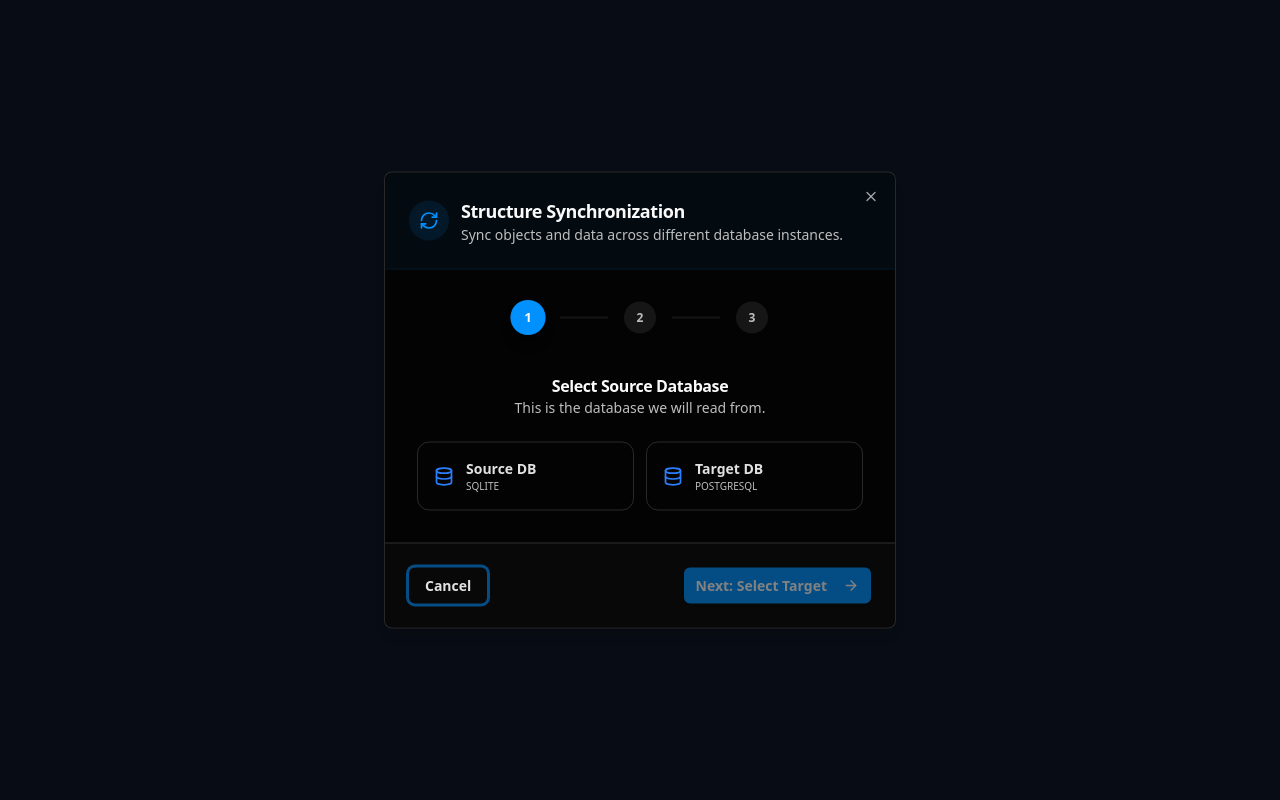
Test: SyncWizard flow: Select Source -> Select Target -> Compare
Note: Select Source
Click the text "Source DB" at point(501, 468), box [466,458,536,478]
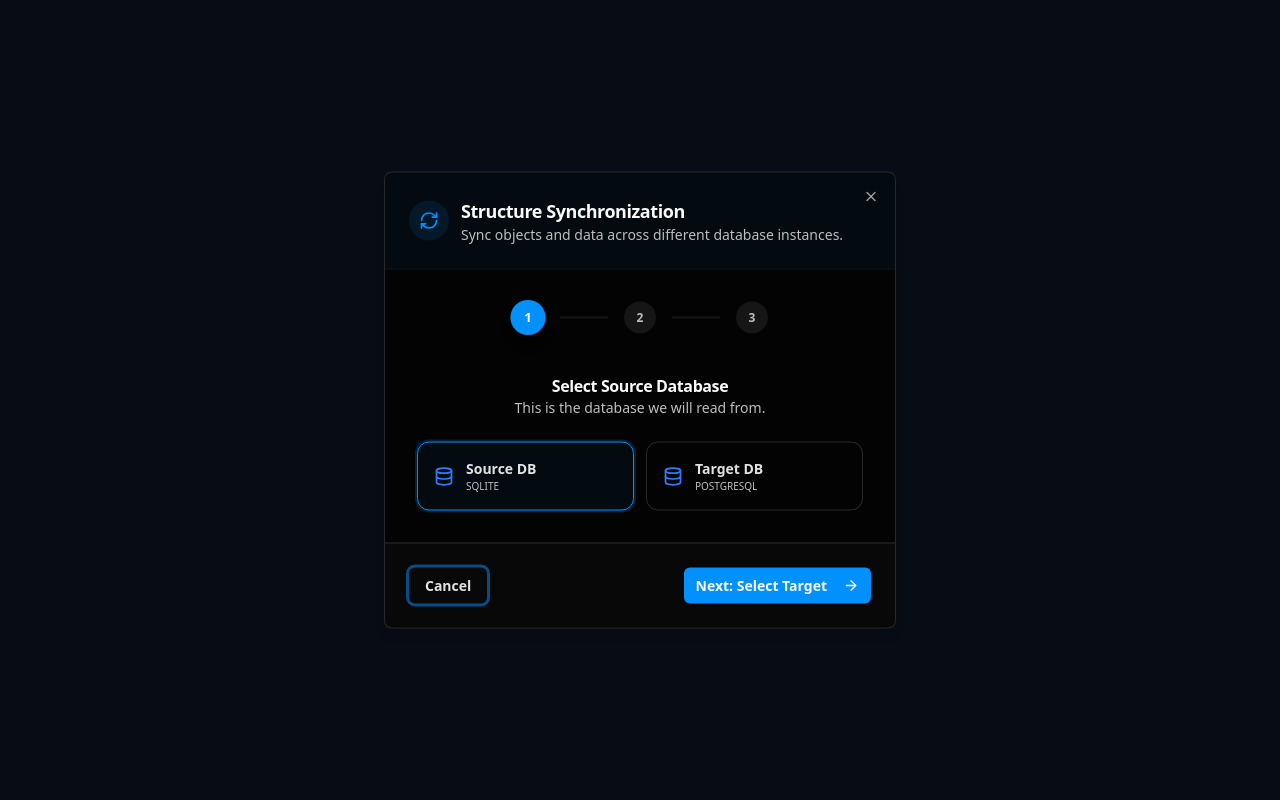
Click the button "Next: Select Target" at point(777, 586), box [684,568,871,604]
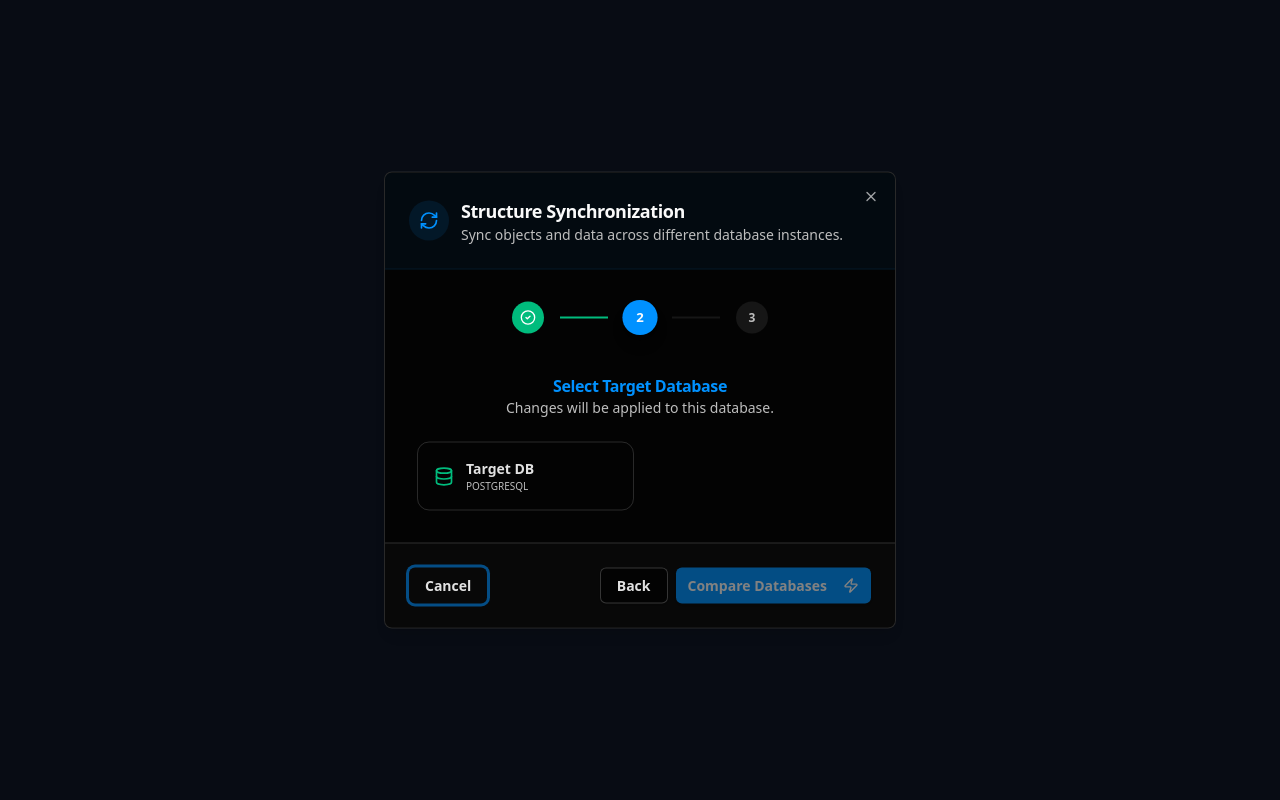
Note: Select Target
Click the text "Target DB" at point(500, 468), box [466,458,534,478]
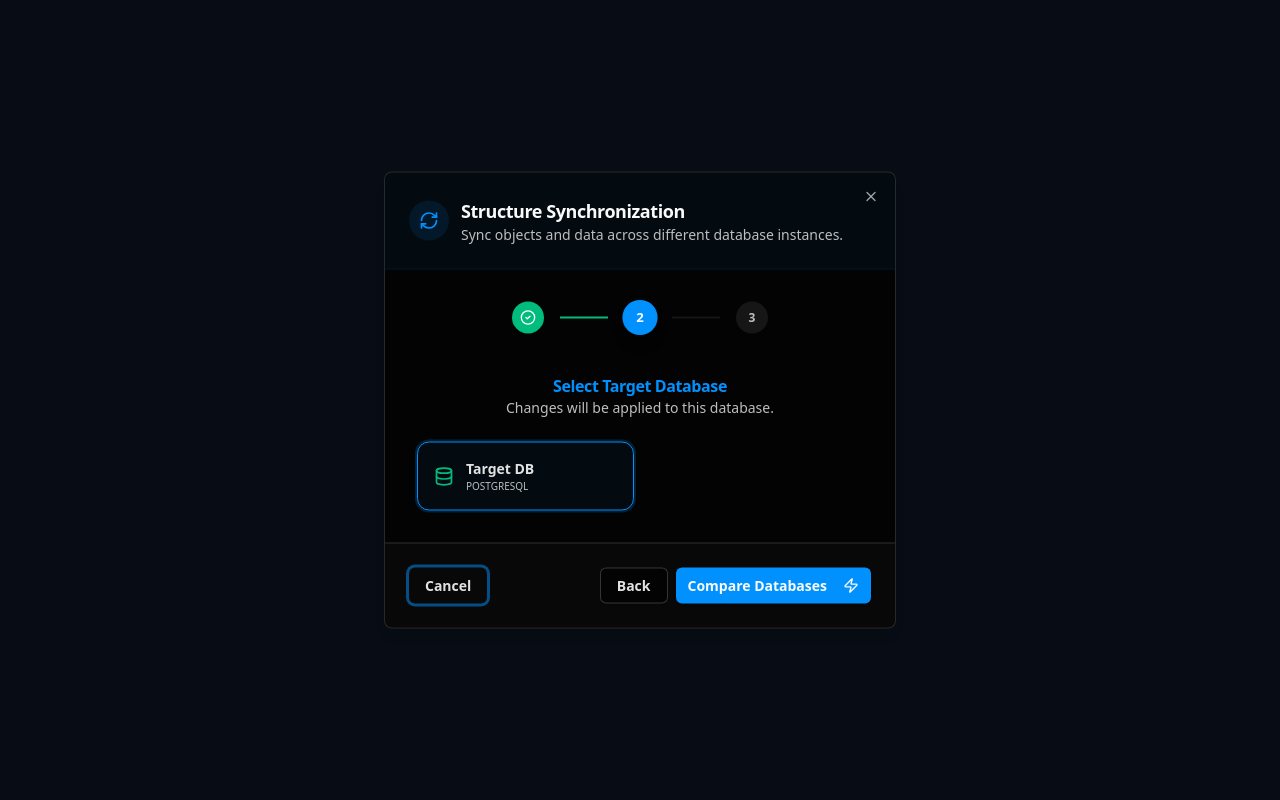
Click the button "Compare Databases" at point(773, 586), box [676,568,871,604]
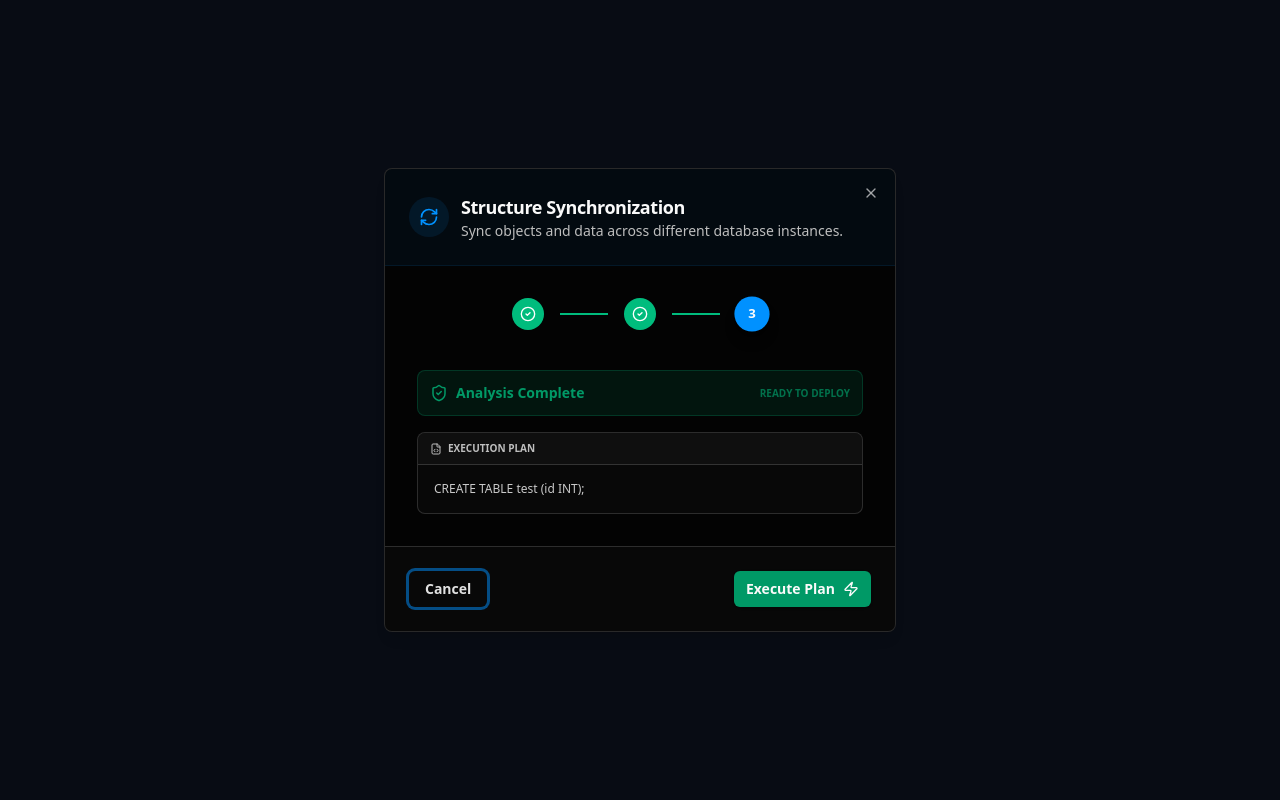
Result: the text "Analysis Complete" is shown at [430,383,584,403]
Result: the text "CREATE TABLE test (id INT);" is shown at [434,480,585,497]
